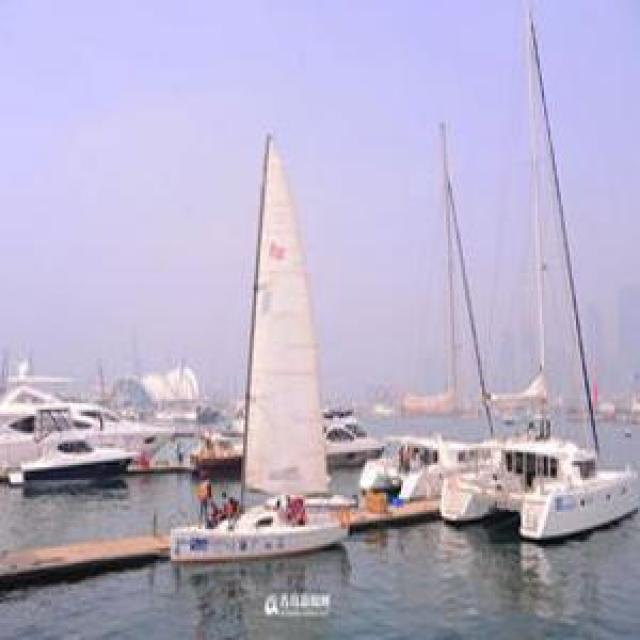sailboat: (463, 31, 630, 529), (170, 138, 358, 556)
